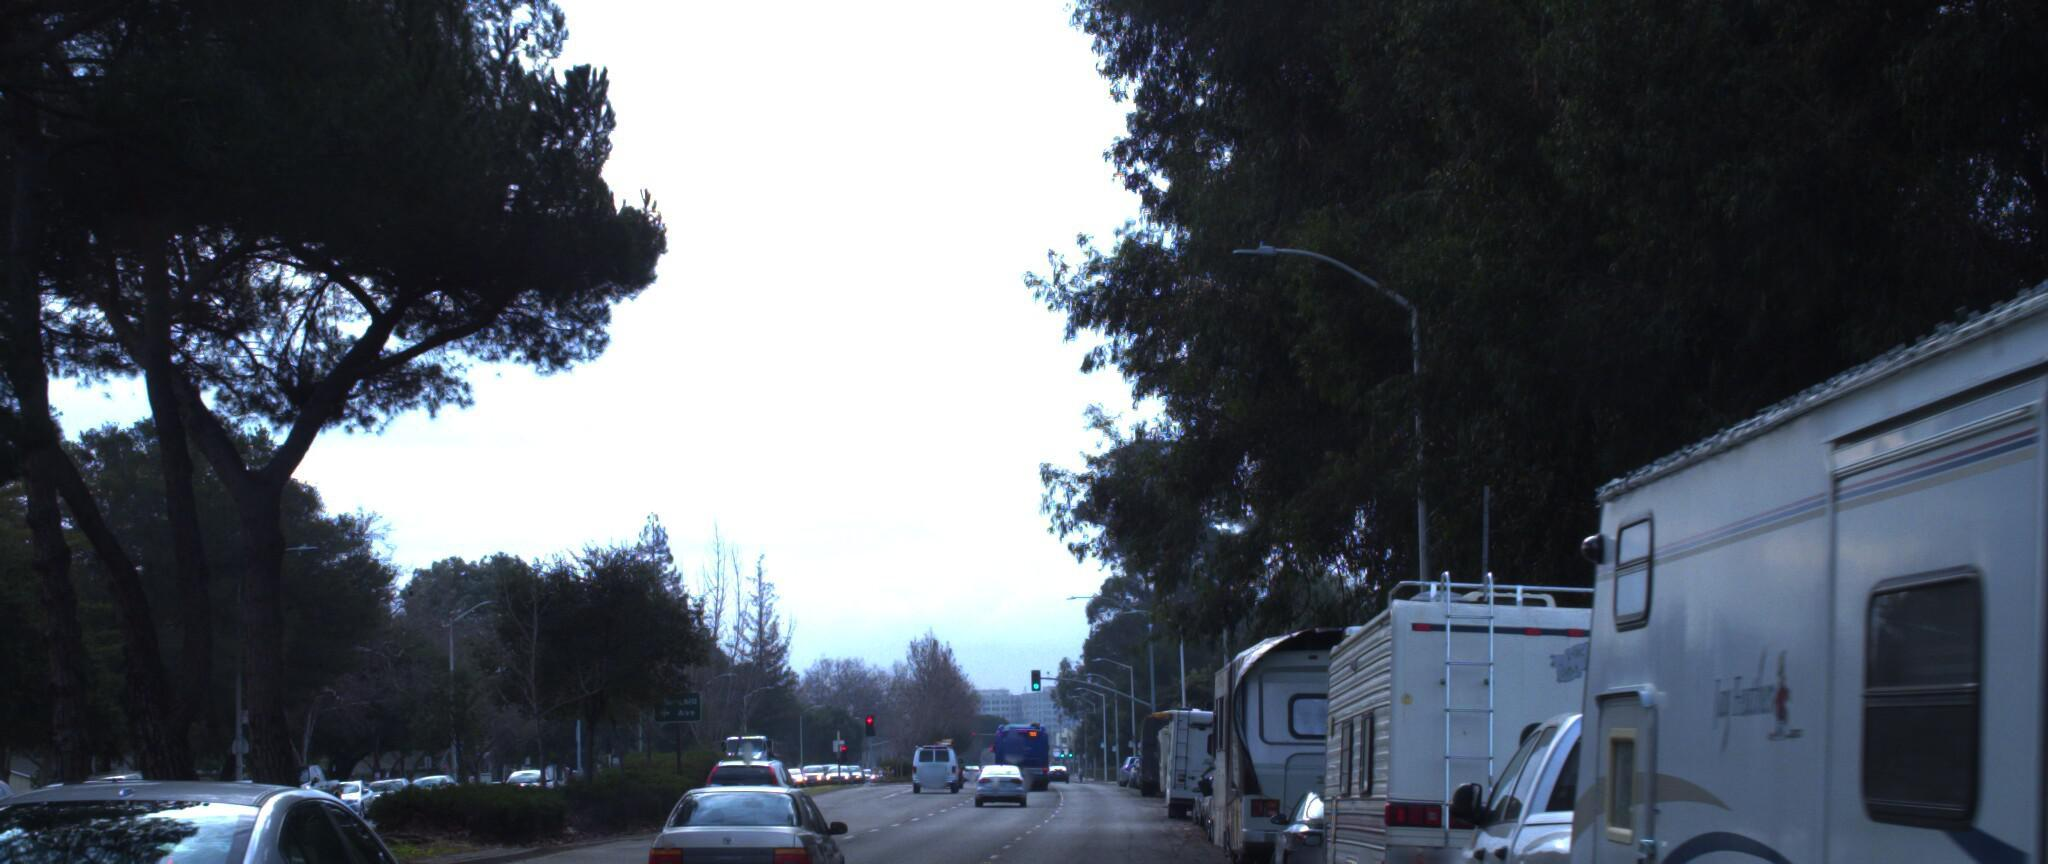car: (1398, 664, 2048, 864), (0, 757, 530, 864), (635, 760, 859, 864), (1256, 760, 1446, 864), (697, 745, 808, 831), (0, 760, 33, 850)
other_vehicle: (1492, 0, 2048, 864), (1289, 544, 1812, 864), (1195, 608, 1445, 864)
